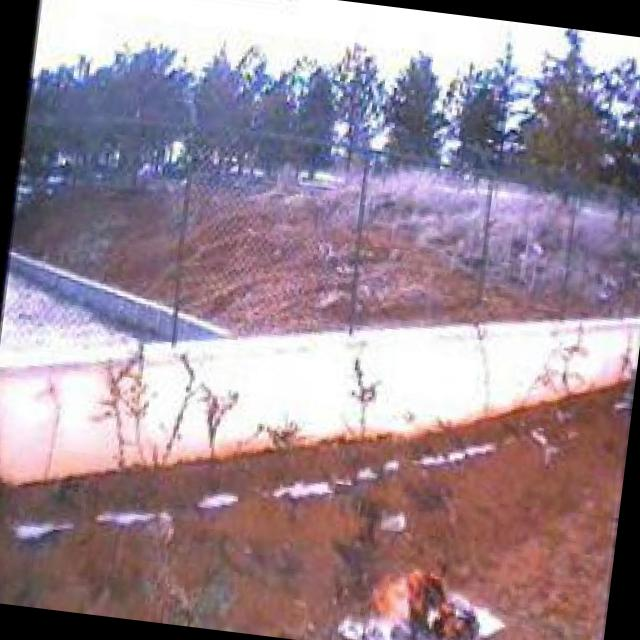Fire: (360, 561, 493, 640)
